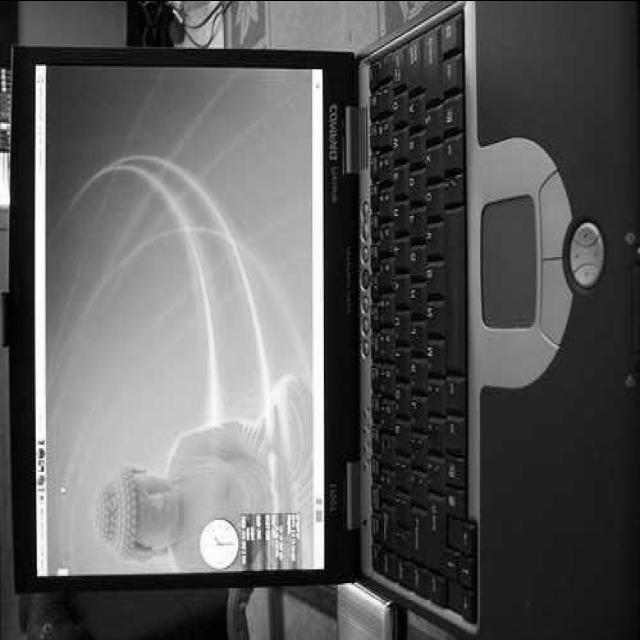laptop: (19, 36, 640, 596)
